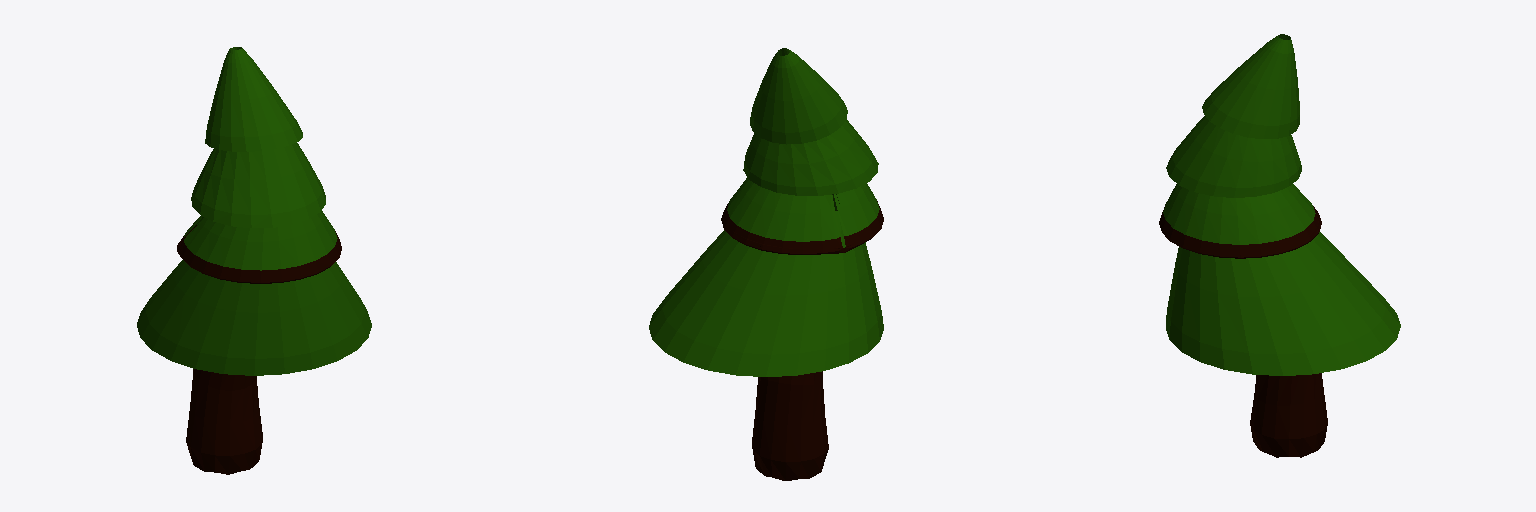
The model's file is pinetree2.obj.
The picture shows the model from 3 angles: view 1: azimuth 30°, elevation 25°; view 2: azimuth 150°, elevation 25°; view 3: azimuth 270°, elevation 25°; orthographic projection.
Parts seen in each view (by area): view 1: Cube; view 2: Cube; view 3: Cube.
Part boxes in pixels (bbox=[...]): Cube: bbox=[137, 47, 371, 474]; Cube: bbox=[649, 48, 883, 480]; Cube: bbox=[1159, 34, 1400, 457].
Bounding box in the file's own units: 6.5 × 12.86 × 6.68.